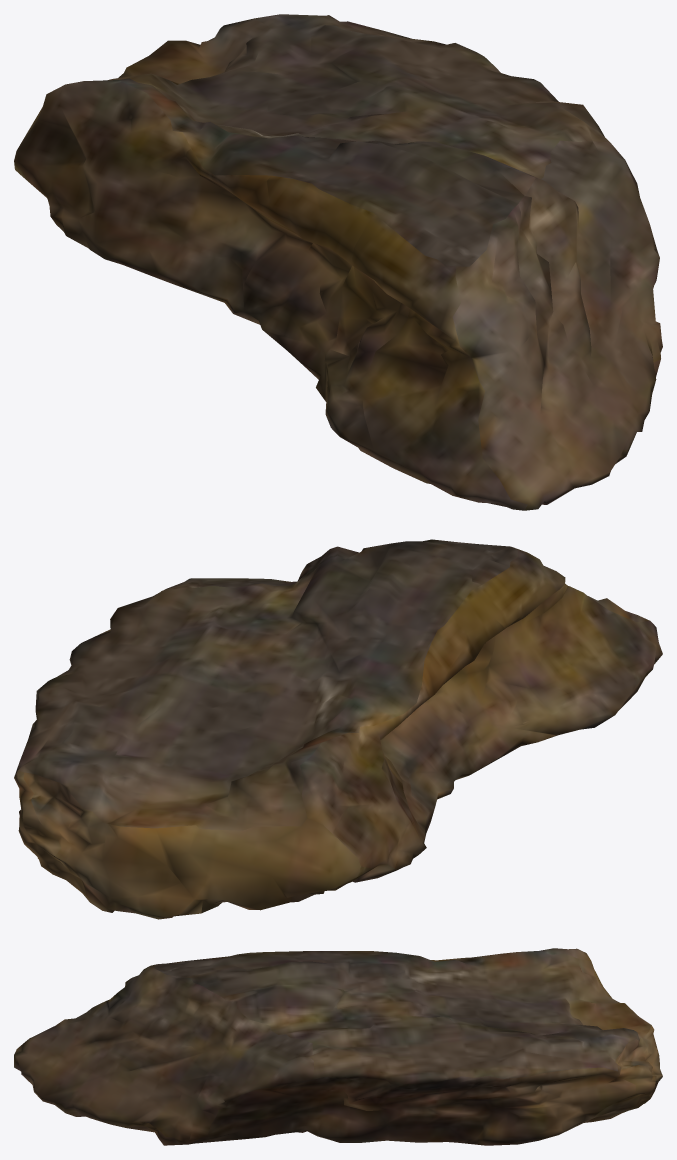
The model's file is rock-09.d383bfe1.glb.
The picture shows the model from 3 angles, top to bottom: view 1: azimuth 30°, elevation 25°; view 2: azimuth 150°, elevation 25°; view 3: azimuth 270°, elevation 25°; orthographic projection. The views are drawn at different scales.
Visible parts, largest first — view 1: model; view 2: model; view 3: model.
Boxes of the visible parts, bbox=[...] form: model: bbox=[14, 14, 662, 510]; model: bbox=[14, 539, 662, 919]; model: bbox=[14, 948, 662, 1145].
Bounding box in the file's own units: 0.0739 × 0.0328 × 0.1446.
1 material, 1 textured.
